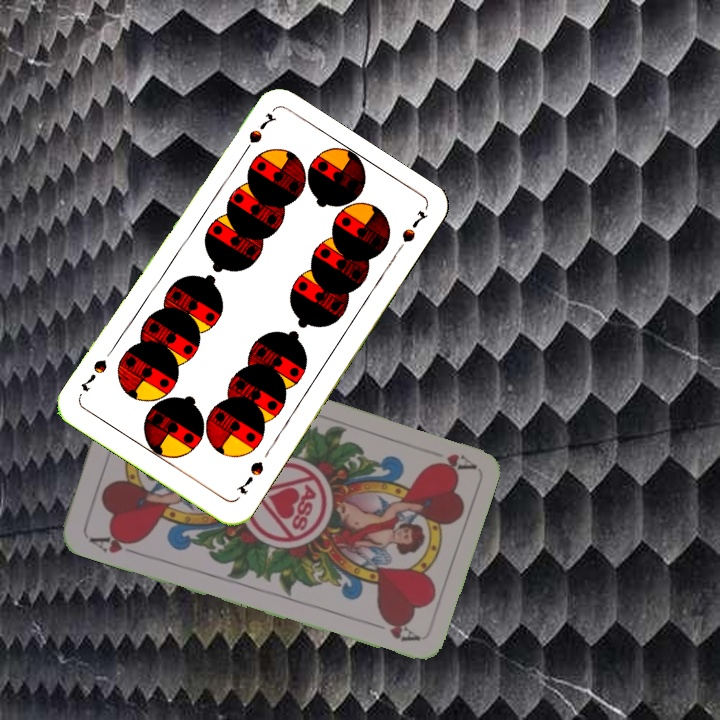HA: (85, 528, 143, 558), (428, 449, 476, 475)
S7: (237, 108, 278, 160), (231, 456, 267, 497)
